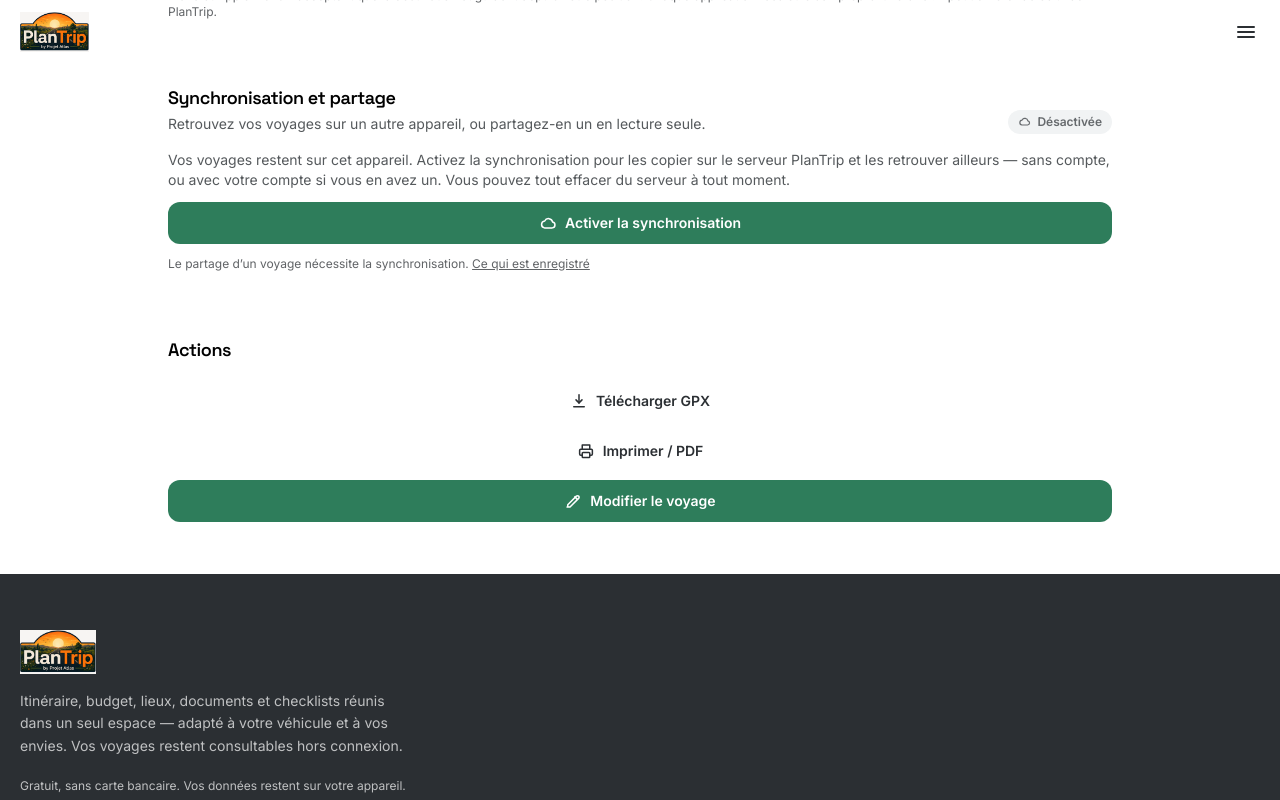
Test case: résultat du voyage › exporte un GPX même hors ligne avec un message explicite
(page scrolled)
Expected: the heading "Actions" is shown, x1=168 y1=336 x2=231 y2=364
Click the button "Télécharger GPX": (640, 400) x1=168 y1=380 x2=1112 y2=422
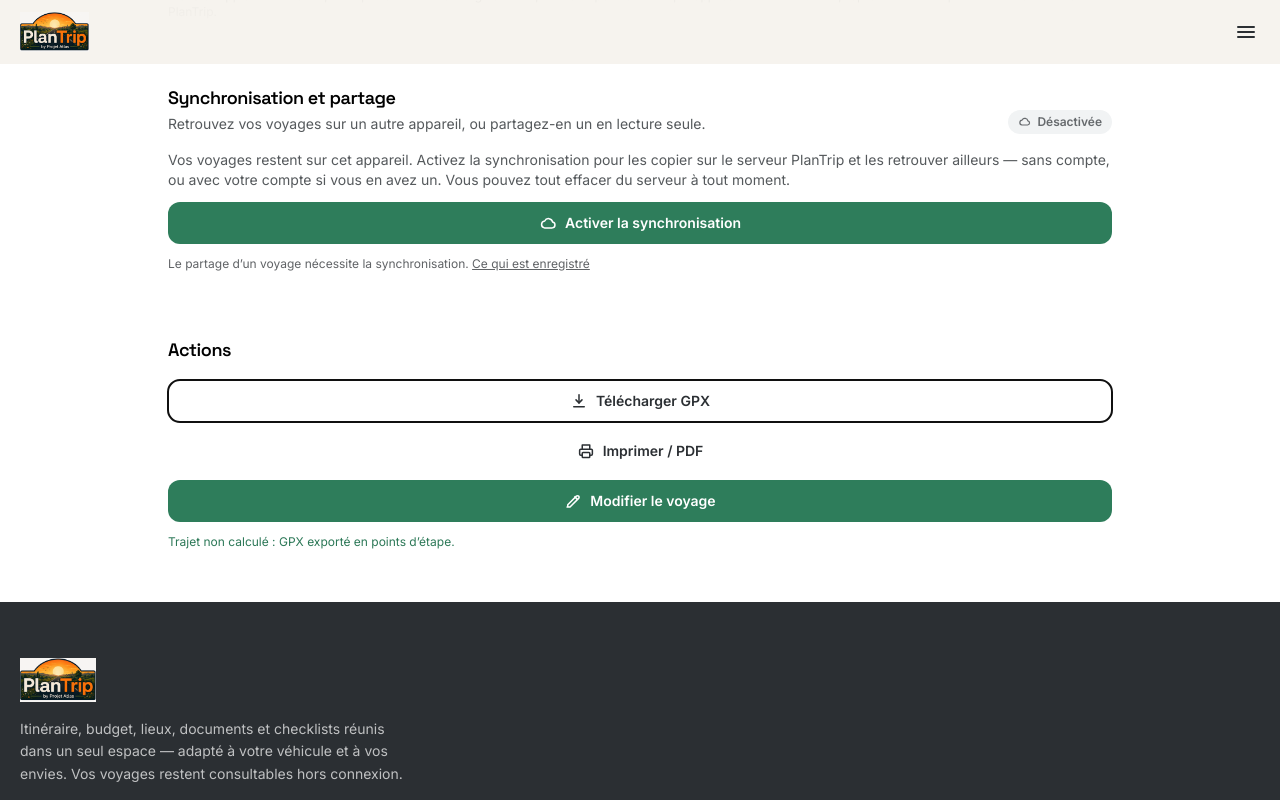
Result: the message shows "GPX exporté en points d’étape" at x1=168 y1=534 x2=455 y2=548
